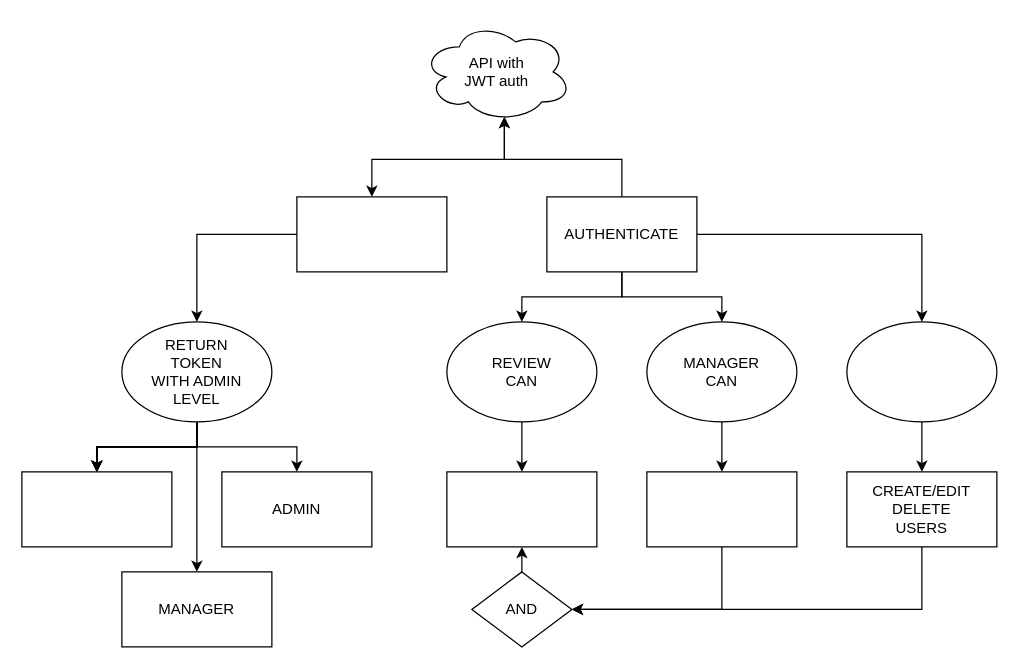
Image size: 1019x669. Some labels were removed from this diagram. Here are the shapes that lost their labels. From the top down, the centre of each, then its label:
pixel 371 234: LOGIN
pixel 921 371: ADMIN CAN
pixel 96 509: REVIEW
pixel 521 509: VIEW/REORDER PRODUCTS
pixel 721 509: CREATE/EDIT DELETE PRODUCTS
